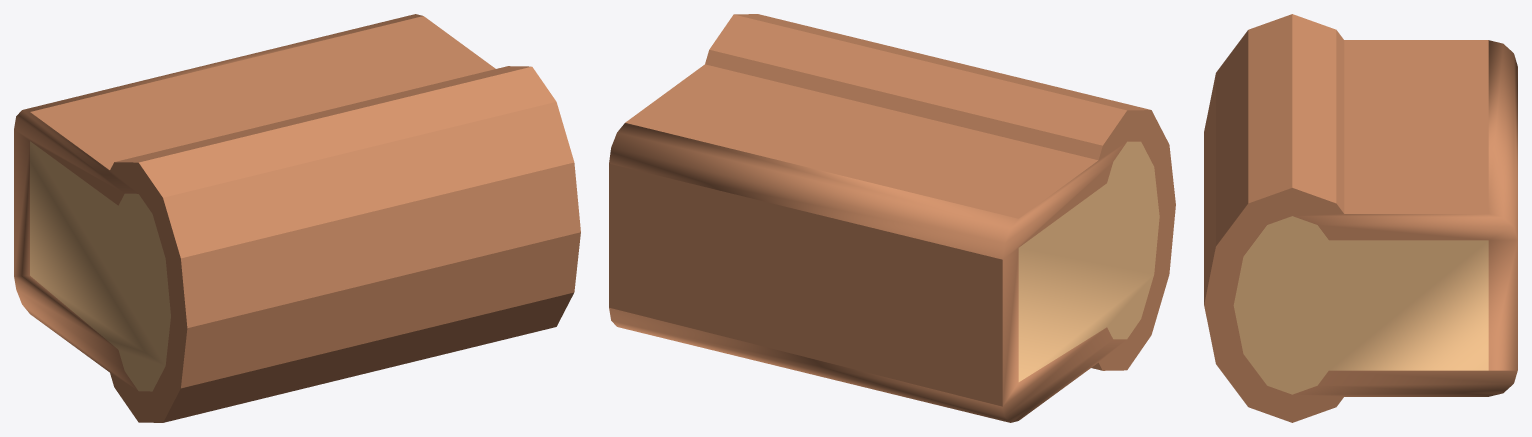
Rendered from loaf.obj.
3 views of the same model, side by side, from view 1: azimuth 30°, elevation 25°; view 2: azimuth 150°, elevation 25°; view 3: azimuth 270°, elevation 25° (orthographic). The views are drawn at different scales.
Visible parts, largest first — view 1: loaf; view 2: loaf; view 3: loaf.
Part boxes in pixels (bbox=[...]): loaf: bbox=[14, 14, 580, 422]; loaf: bbox=[609, 14, 1175, 422]; loaf: bbox=[1204, 14, 1517, 422].
Bounding box in the file's own units: 0.5797 × 0.3659 × 0.4423.
